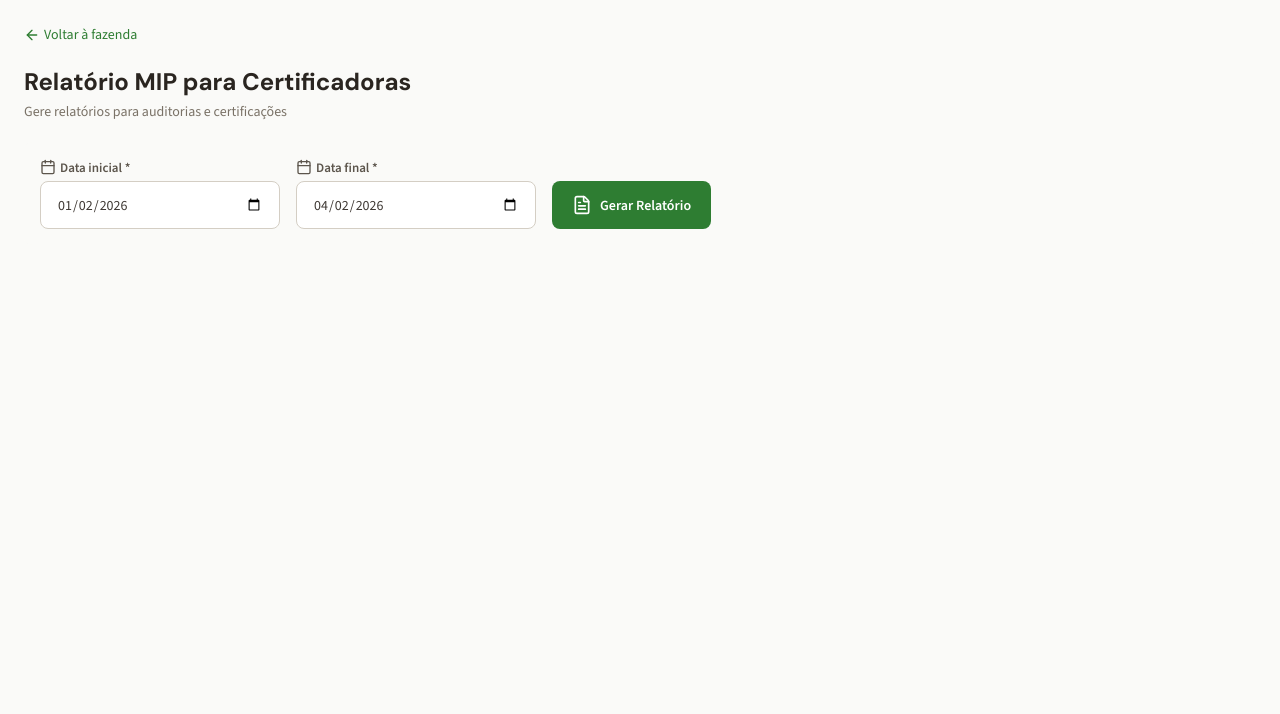
MonitoringReportPage › should show Excel download button after report generation
Click the button "Gerar Relatório": coordinates (632, 205) [552, 181, 711, 229]
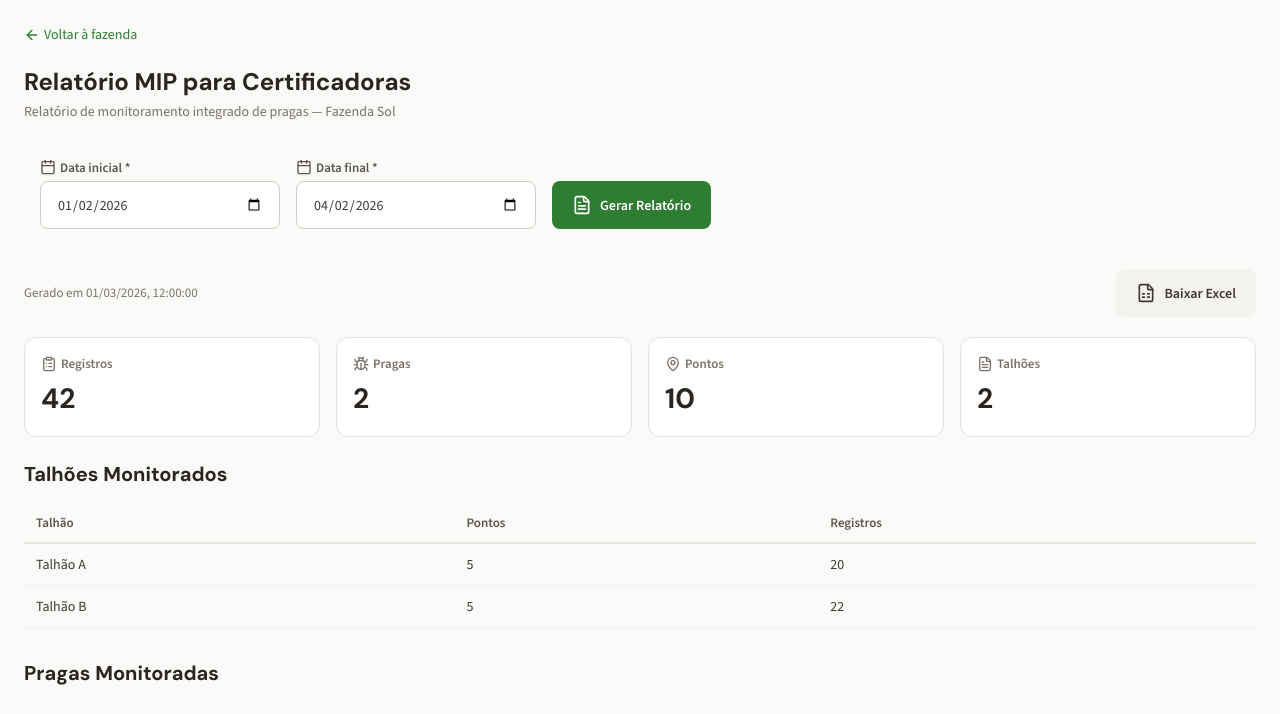
Check: the button "Baixar Excel" is shown, box [1116, 269, 1256, 317]
